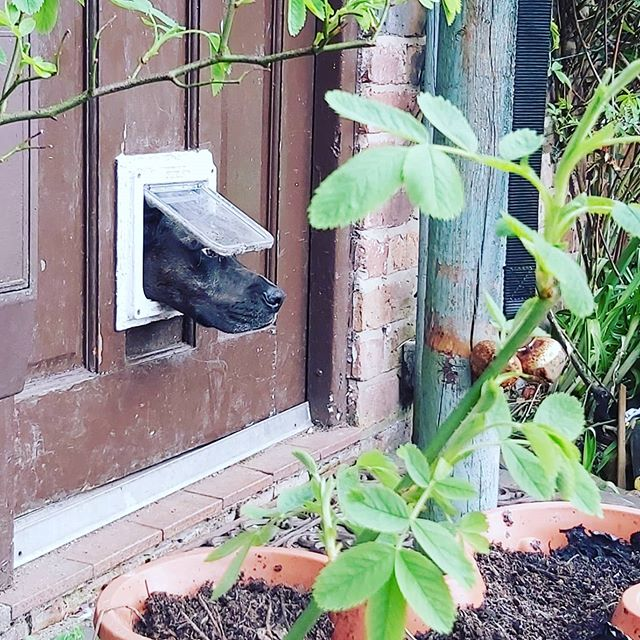animal: (136, 210, 303, 338)
door: (1, 1, 322, 453)
